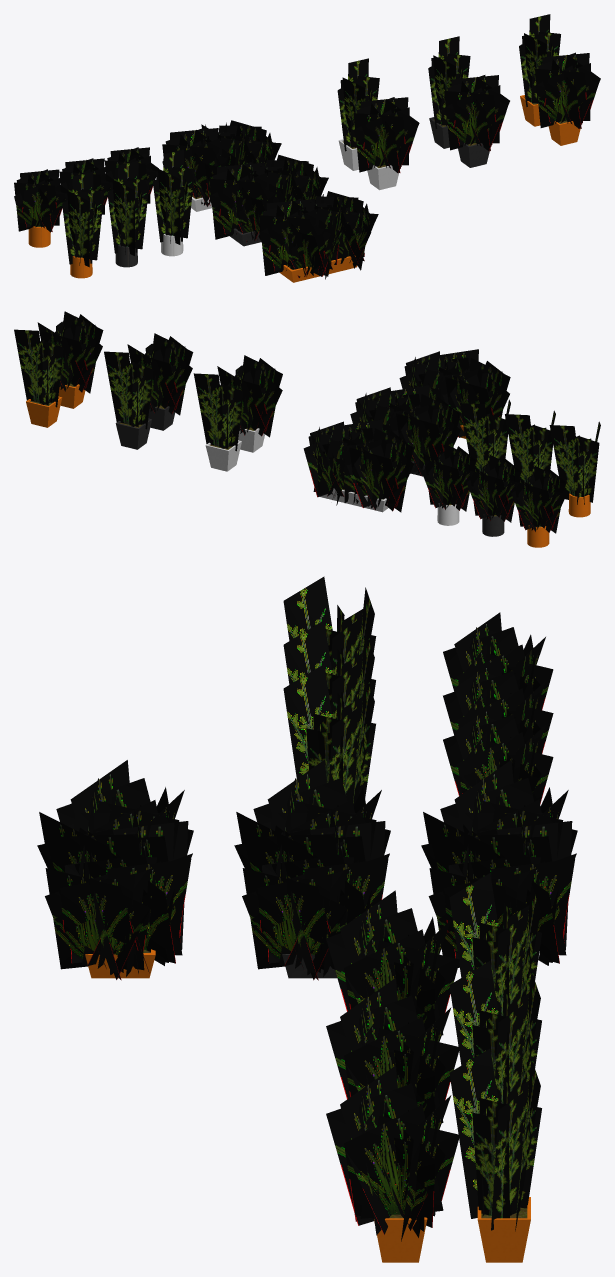
Rendered from plants.glb.
The picture shows the model from 3 angles, top to bottom: view 1: azimuth 30°, elevation 25°; view 2: azimuth 150°, elevation 25°; view 3: azimuth 270°, elevation 25°; orthographic projection. The views are drawn at different scales.
Parts seen in each view (by area): view 1: Pot_8, Pot_7, Pot_3, Pot_13, Pot_14, Pot_12, Pot_11, Pot_10, Pot_9, Pot_2, Pot_5, Pot_6 (+3 smaller); view 2: Pot_3, Pot_7, Pot_8, Pot_6, Pot_4, Pot_5, Pot_13, Pot_12, Pot_14, Pot_11, Pot_2, Pot (+3 smaller); view 3: Pot_8, Pot_7, Pot_3, Pot_14, Pot_6, Pot_13, Pot_12, Pot_9, Pot_4, Pot_5, Pot, Pot_2 (+3 smaller).
Boxes of the visible parts, <box> form: Pot_8: <box>259,191,378,282</box>; Pot_7: <box>209,154,328,246</box>; Pot_3: <box>162,120,281,211</box>; Pot_13: <box>444,75,509,167</box>; Pot_14: <box>535,52,600,145</box>; Pot_12: <box>353,97,419,190</box>; Pot_11: <box>62,172,104,278</box>; Pot_10: <box>107,160,149,267</box>; Pot_9: <box>152,149,194,256</box>; Pot_2: <box>14,169,68,247</box>; Pot_5: <box>428,36,470,148</box>; Pot_6: <box>519,14,560,126</box>; Pot_3: <box>303,419,414,512</box>; Pot_7: <box>350,385,461,476</box>; Pot_8: <box>399,349,510,438</box>; Pot_6: <box>14,326,65,427</box>; Pot_4: <box>193,370,244,471</box>; Pot_5: <box>104,348,154,449</box>; Pot_13: <box>127,333,193,430</box>; Pot_12: <box>217,355,282,452</box>; Pot_14: <box>37,311,103,408</box>; Pot_11: <box>549,421,600,517</box>; Pot_2: <box>511,466,566,547</box>; Pot: <box>421,444,476,525</box>; Pot_8: <box>37,760,193,980</box>; Pot_7: <box>234,759,390,980</box>; Pot_3: <box>421,760,577,967</box>; Pot_14: <box>326,1066,459,1262</box>; Pot_6: <box>449,1048,541,1262</box>; Pot_13: <box>326,978,459,1122</box>; Pot_12: <box>326,890,459,1035</box>; Pot_9: <box>283,664,375,806</box>; Pot_4: <box>449,873,541,1015</box>; Pot_5: <box>449,961,541,1103</box>; Pot: <box>443,700,553,804</box>; Pot_2: <box>443,612,553,710</box>.
Size of the model in its own units: 12.24 by 2.07 by 5.21.
Materials: 1 (1 with a texture image).
